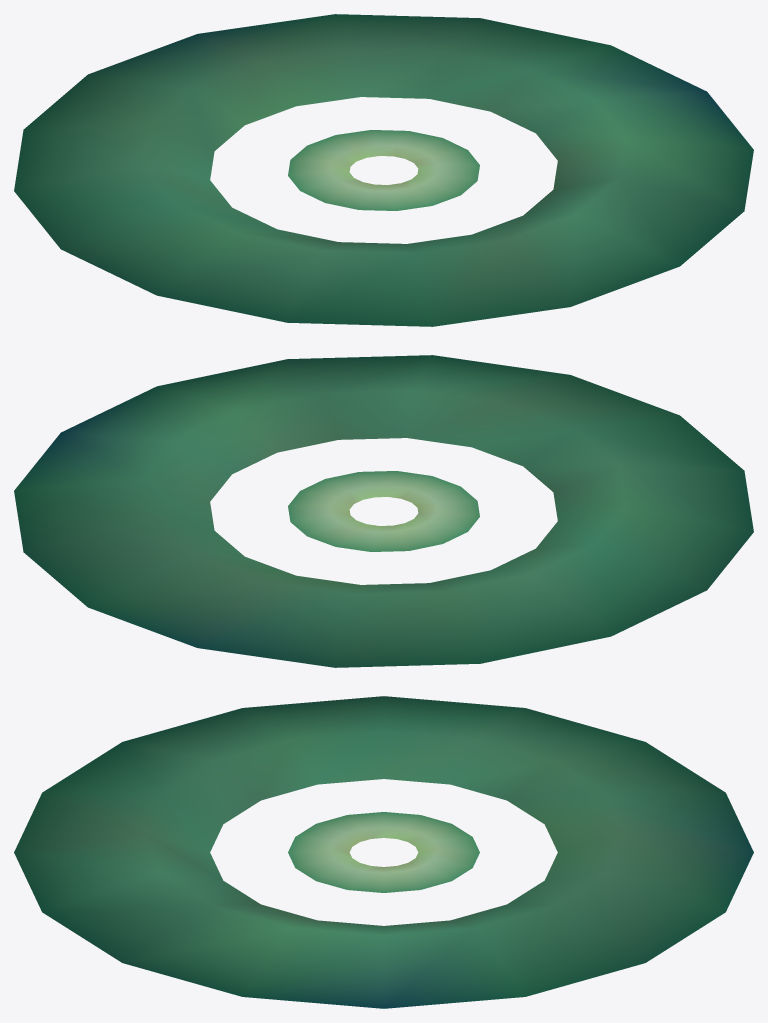
The model's file is space-nebulae-ring-nebula_v4.glb.
The picture shows the model from 3 angles, top to bottom: view 1: azimuth 30°, elevation 25°; view 2: azimuth 150°, elevation 25°; view 3: azimuth 270°, elevation 25°; orthographic projection.
Visible parts, largest first — view 1: Ring Nebula_v4; view 2: Ring Nebula_v4; view 3: Ring Nebula_v4.
Part boxes in pixels (<box>): Ring Nebula_v4: <box>14,14,753,326</box>; Ring Nebula_v4: <box>14,355,753,667</box>; Ring Nebula_v4: <box>14,696,753,1008</box>.
Size of the model in its own units: 0.5 by 0.0283 by 0.5.
